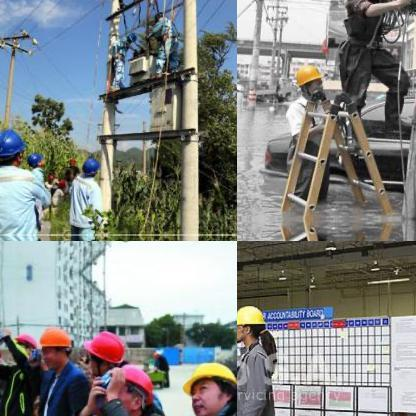Helmet: (179, 354, 236, 415), (78, 326, 128, 374), (108, 364, 153, 415), (35, 322, 71, 366), (237, 300, 267, 347), (293, 60, 325, 98), (0, 126, 24, 166), (13, 330, 36, 354), (82, 156, 100, 178), (24, 151, 46, 167), (122, 28, 138, 42)
